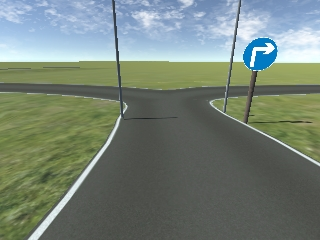right: (244, 38, 277, 71)
